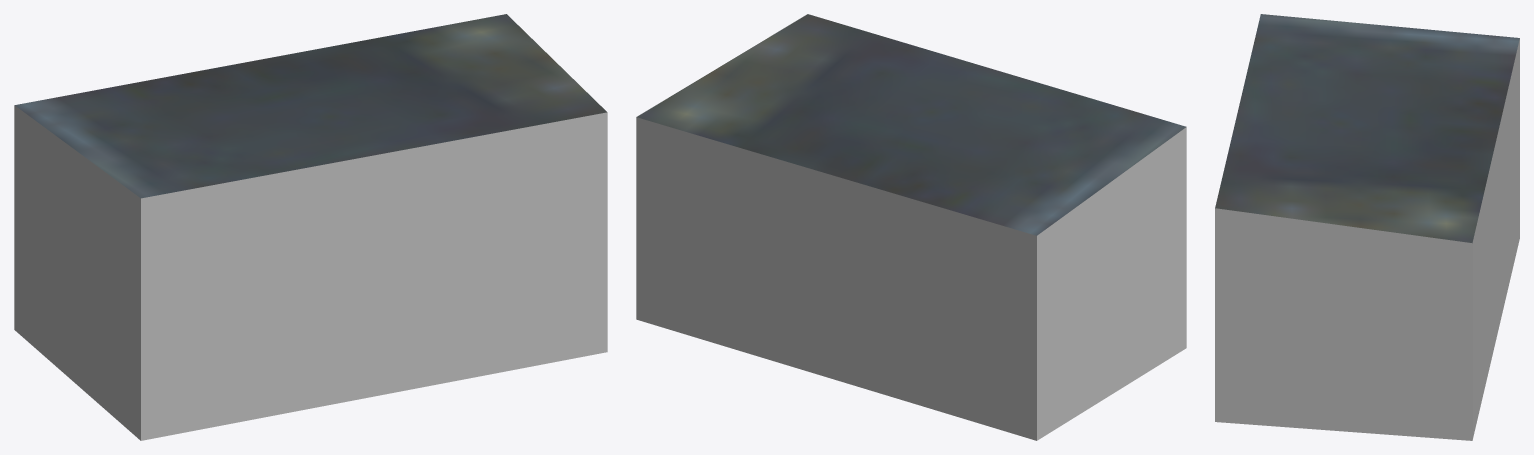
File: DEBW_0010007Txh3.gltf
The picture shows the model from 3 angles, left to right: view 1: azimuth 30°, elevation 25°; view 2: azimuth 150°, elevation 25°; view 3: azimuth 270°, elevation 25°; orthographic projection. The views are drawn at different scales.
Parts seen in each view (by area): view 1: Z_UP; view 2: Z_UP; view 3: Z_UP.
Boxes of the visible parts, x1,y1,x2,y2 form: Z_UP: (14,14,607,440); Z_UP: (636,14,1186,440); Z_UP: (1215,14,1519,440).
Bounding box in the file's own units: 5.89 × 2.82 × 3.6.
2 materials, 1 textured.
